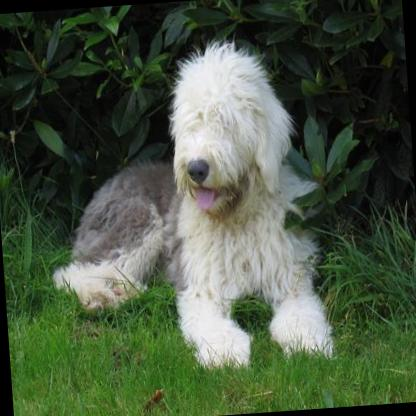Old_English_sheepdog: (36, 37, 333, 376)
